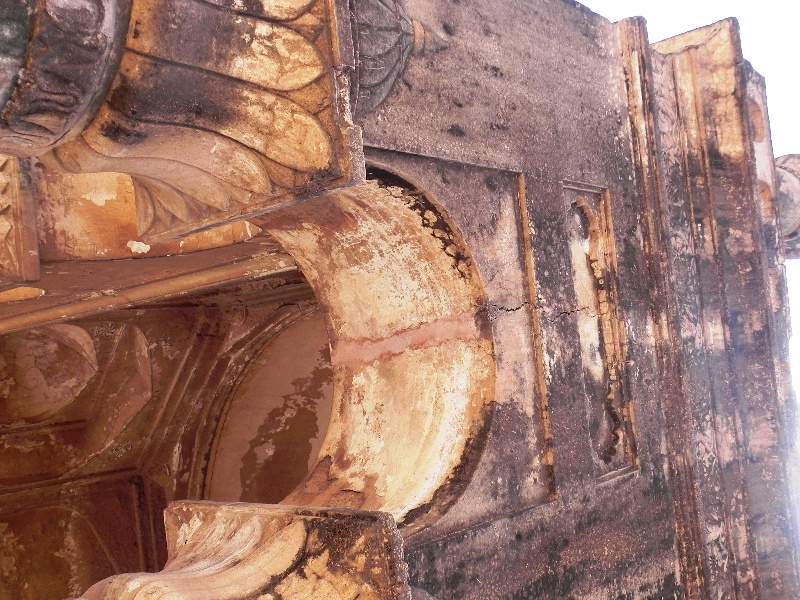Crack: (492, 294, 600, 327)
